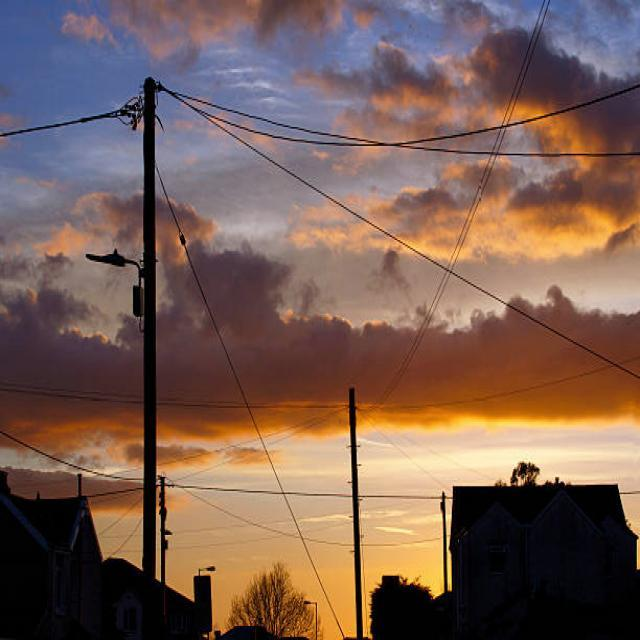pole: (136, 82, 165, 585)
wire: (159, 85, 640, 382), (165, 86, 639, 158), (168, 82, 640, 149), (0, 102, 139, 142)
